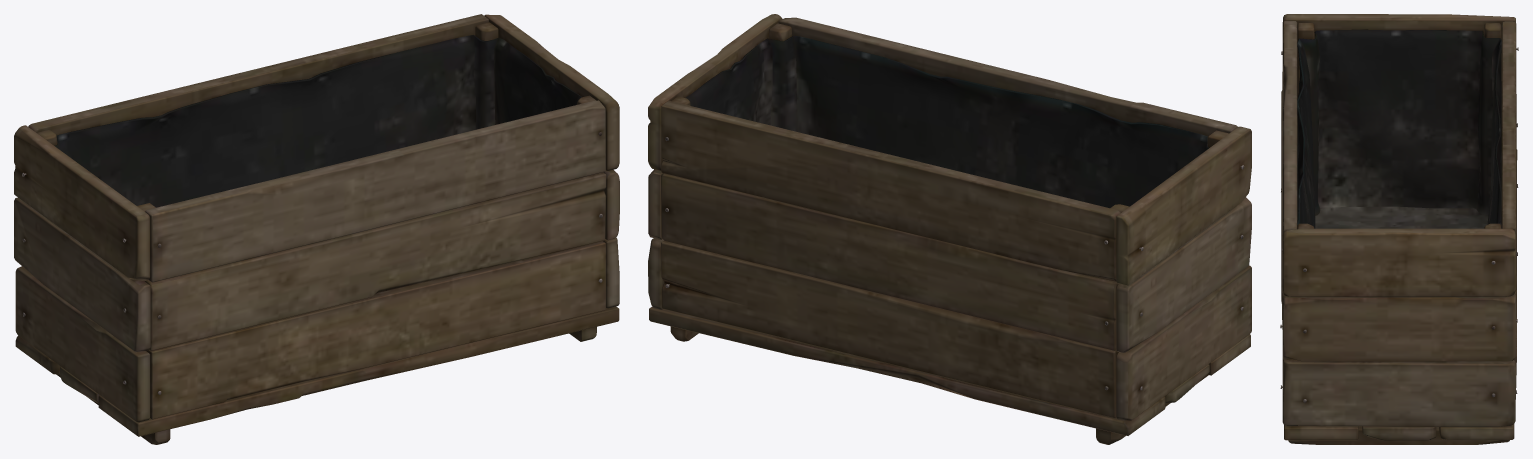
File: planter-box.glb
3 renders of one model, left to right at view 1: azimuth 30°, elevation 25°; view 2: azimuth 150°, elevation 25°; view 3: azimuth 270°, elevation 25°, orthographic. The views are drawn at different scales.
Visible parts, largest first — view 1: planter_box_01; view 2: planter_box_01; view 3: planter_box_01.
Part boxes in pixels (<box>): planter_box_01: <box>14,14,619,444</box>; planter_box_01: <box>648,14,1251,444</box>; planter_box_01: <box>1280,14,1518,444</box>.
Size of the model in its own units: 0.915 by 0.425 by 0.415.
Materials: 1 (1 with a texture image).
